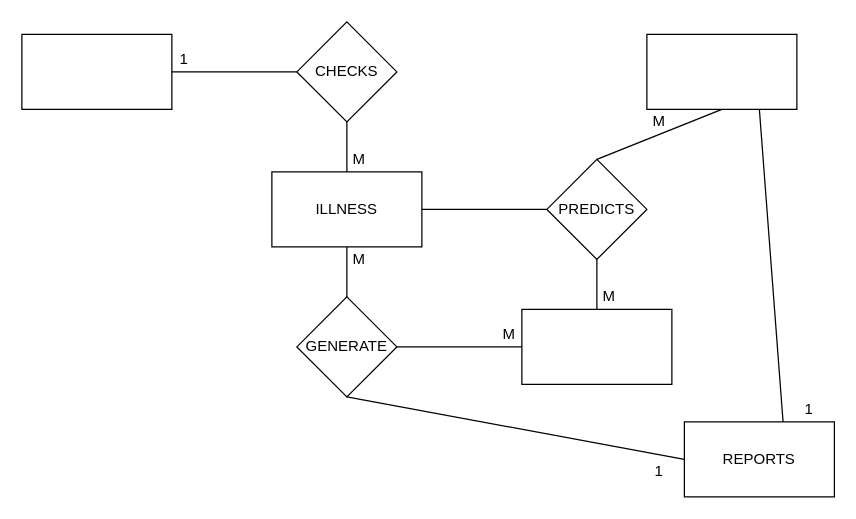
Image size: 856x519. Some labels were removed from this diagram. The centre of each missing label's shape, as x and y in pixels:
"DOCTOR" goes at point 721,71.
"MEDICENE" goes at point 596,346.
"USER/PATIENT" goes at point 96,71.
